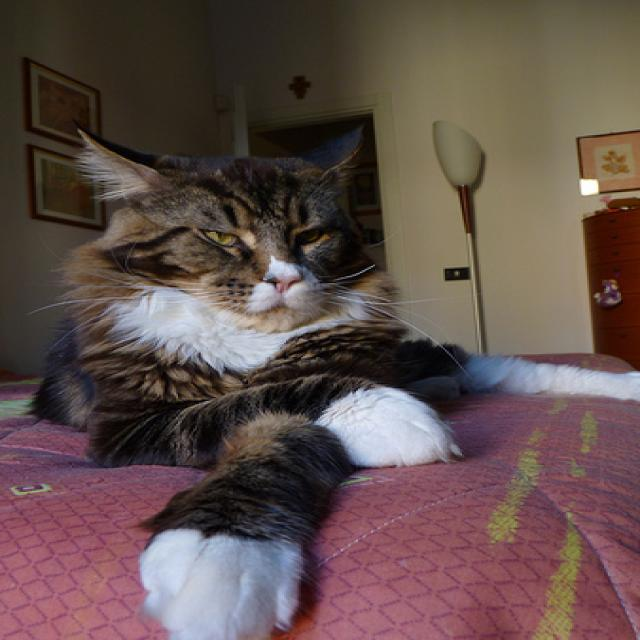Maine Coon: (30, 125, 640, 640)
